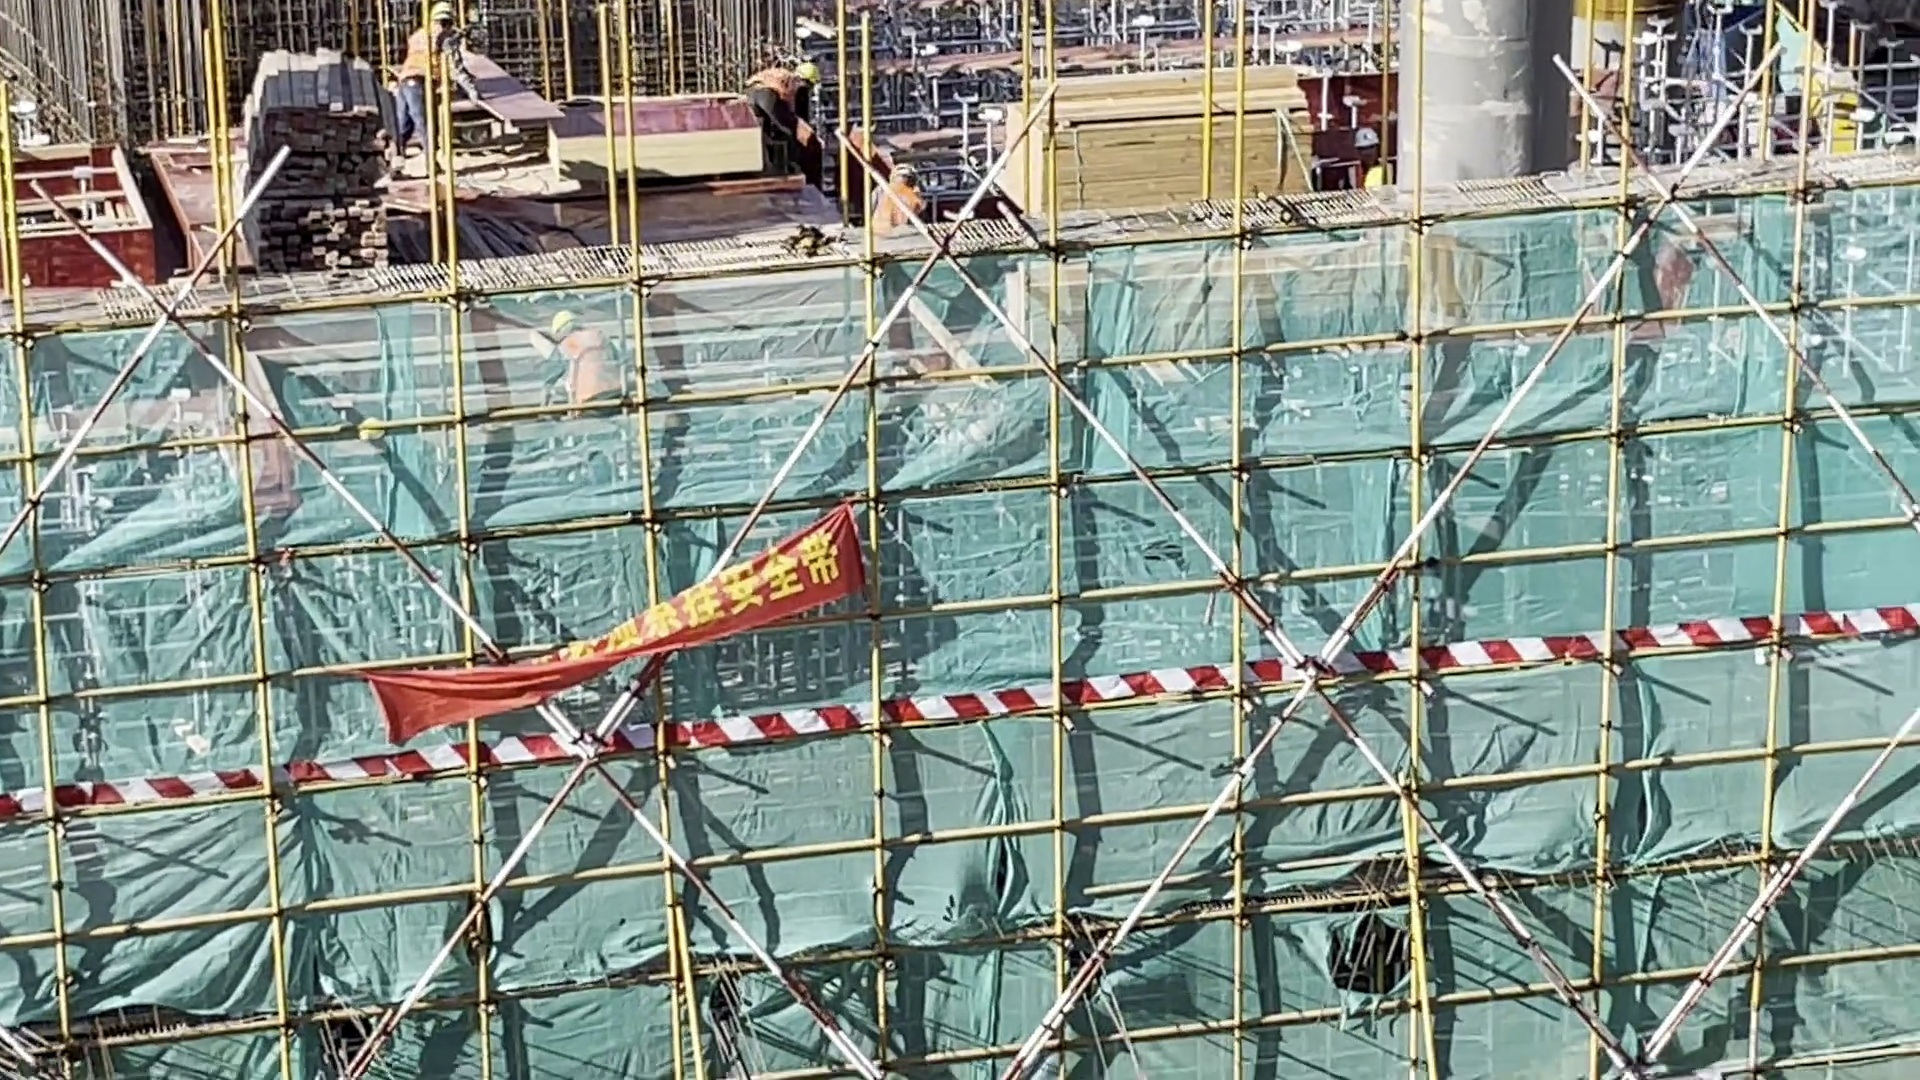board: (529, 105, 761, 184)
helmet: (550, 310, 578, 331), (1350, 127, 1378, 148), (1366, 167, 1389, 192), (432, 4, 461, 21), (803, 62, 824, 81), (894, 163, 919, 176)
person: (385, 6, 469, 171), (528, 310, 632, 424), (740, 60, 828, 186), (870, 160, 926, 230), (1345, 128, 1393, 209)
slogan: (401, 523, 851, 726)
vest: (561, 340, 621, 400), (402, 26, 451, 90), (746, 72, 805, 102), (874, 186, 913, 222)
wood: (990, 72, 1319, 200), (1005, 249, 1427, 345), (244, 87, 376, 177), (256, 193, 388, 277)
